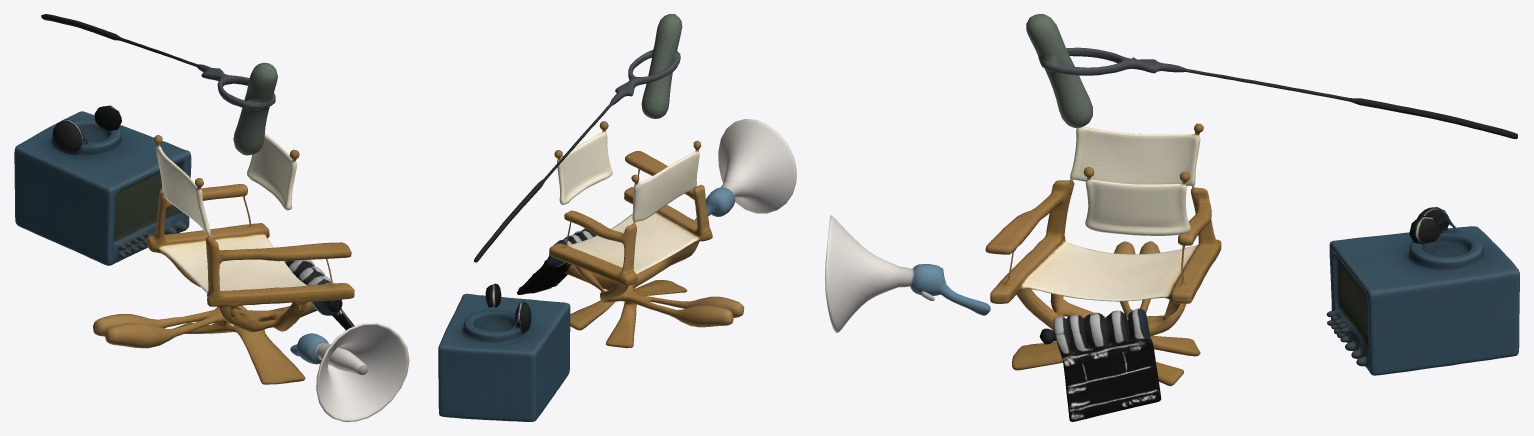
Rendered from original.glb.
The picture shows the model from 3 angles, left to right: view 1: azimuth 30°, elevation 25°; view 2: azimuth 150°, elevation 25°; view 3: azimuth 270°, elevation 25°; orthographic projection. The views are drawn at different scales.
Parts seen in each view (by area): view 1: model; view 2: model; view 3: model.
Boxes of the visible parts, x1,y1,x2,y2 form: model: [14, 14, 409, 421]; model: [438, 14, 796, 421]; model: [825, 14, 1519, 421].
Size of the model in its own units: 0.8138 by 1.04 by 1.9.
1 material, 1 textured.
